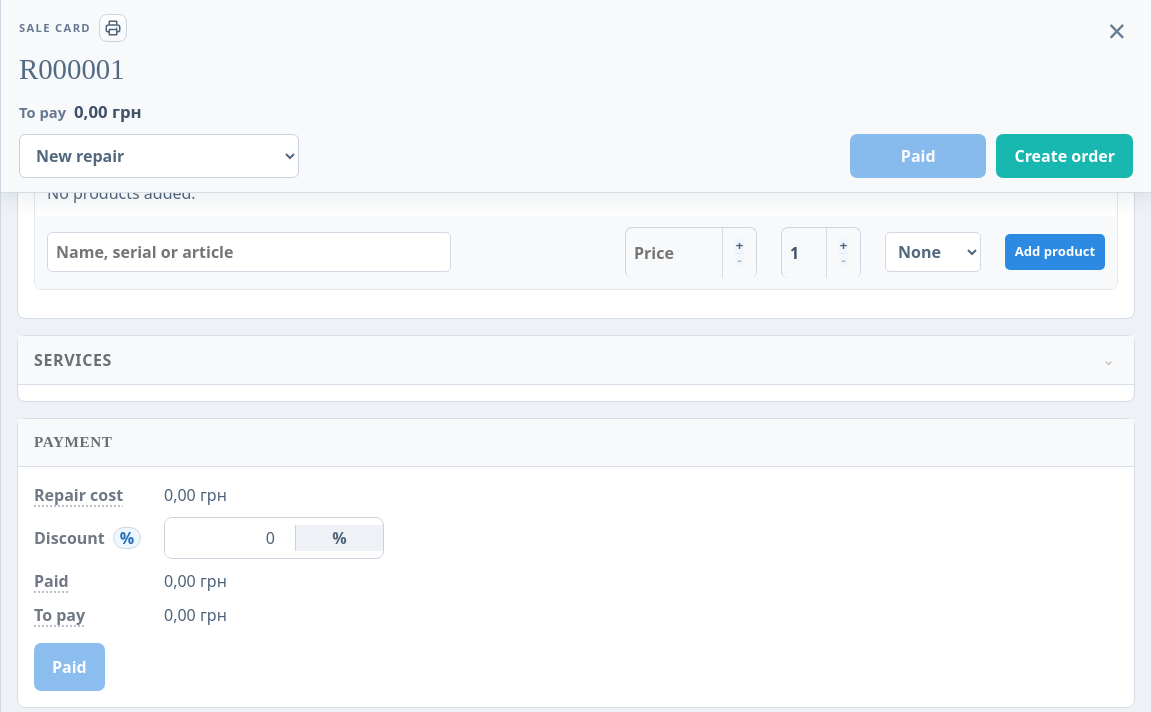
Scenario: OrderDetailCard product entry › renders retail/wholesale 1/2 toggles in the price column header when adding a service
Click the button "Services ⌄" at (73, 360), box [18,336,1134,385]
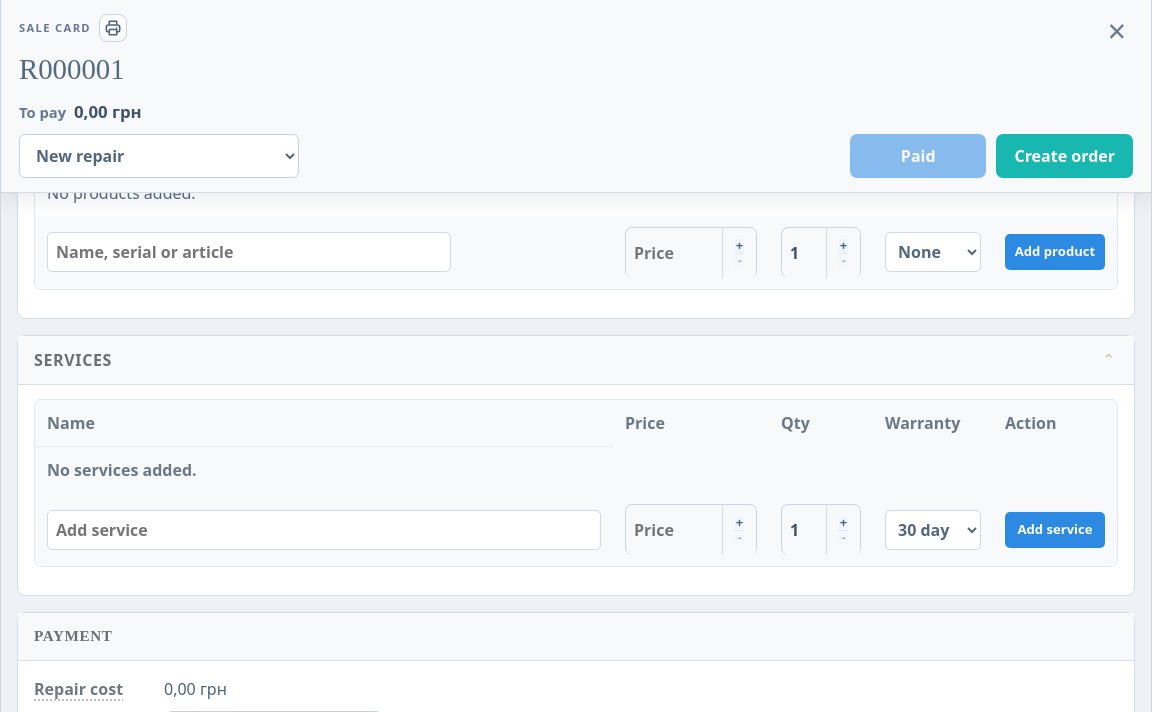
Type "Diag" into the field with placeholder "Add service" at (324, 530), box [47,510,601,550]
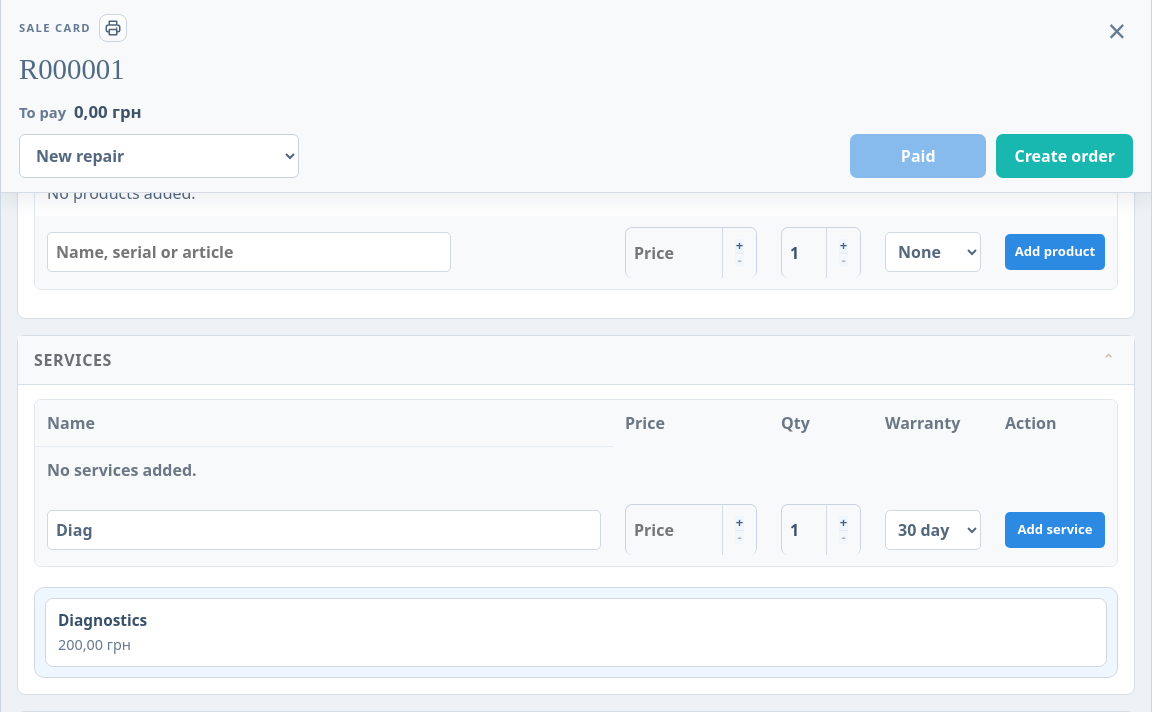
Expected: the button "Diagnostics 200,00 грн" is shown
Click the button "Diagnostics 200,00 грн" at (103, 621), box [54,603,1098,662]
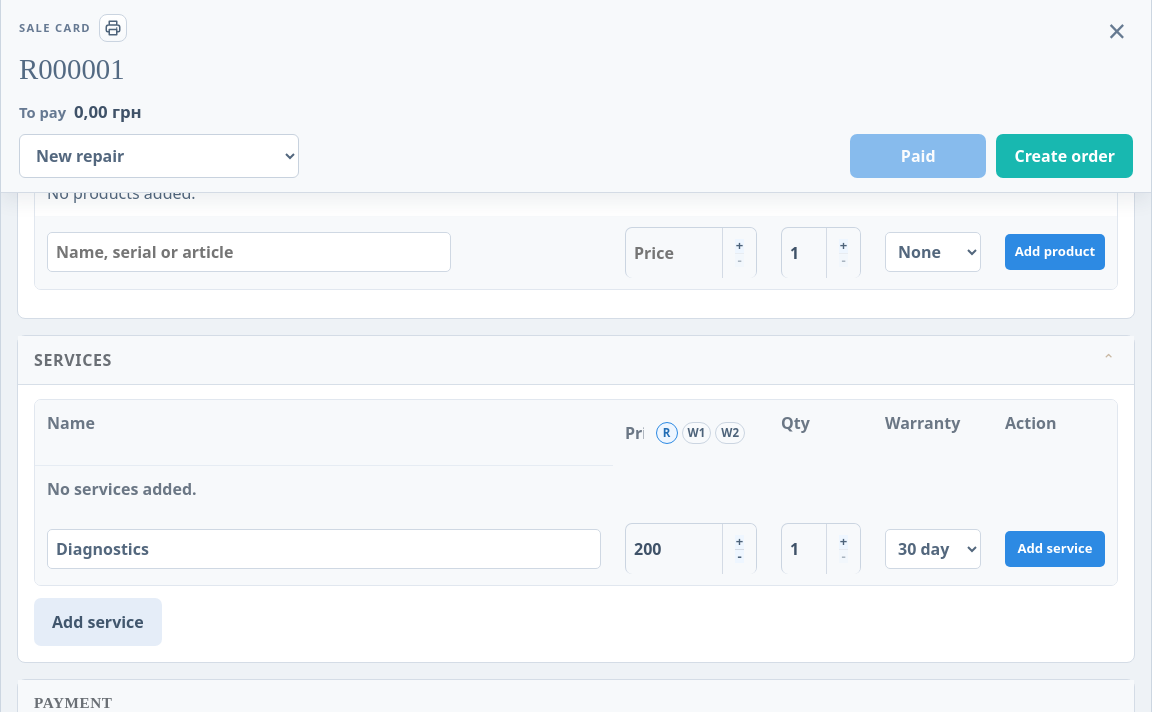
Expected: the field showing "200" is shown, [626,524,722,574]
Expected: the element showing "R W1 W2" is shown, [644,411,757,455]
Expected: the button named "Retail" is shown, [656,422,678,444]
Click the button named "Wholesale 1" at (696, 433), box [682,422,711,444]
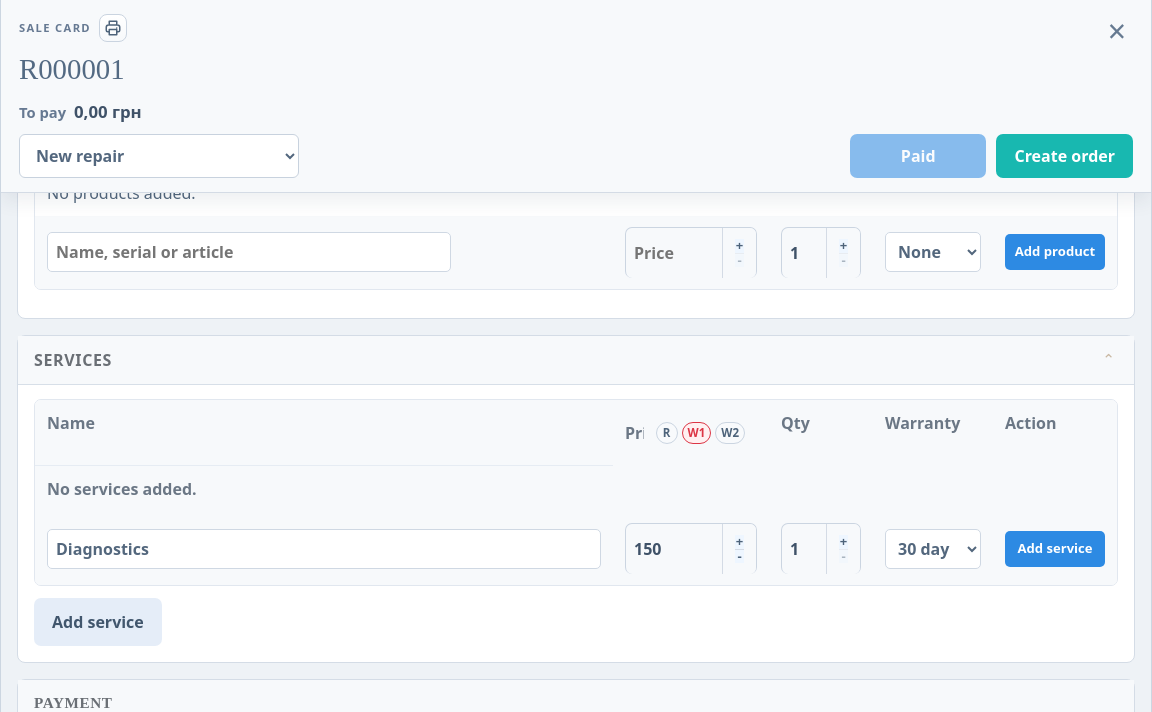
Expected: the field showing "150" is shown, [626,524,722,574]
Click the button named "Wholesale 2" at (730, 433), box [715,422,745,444]
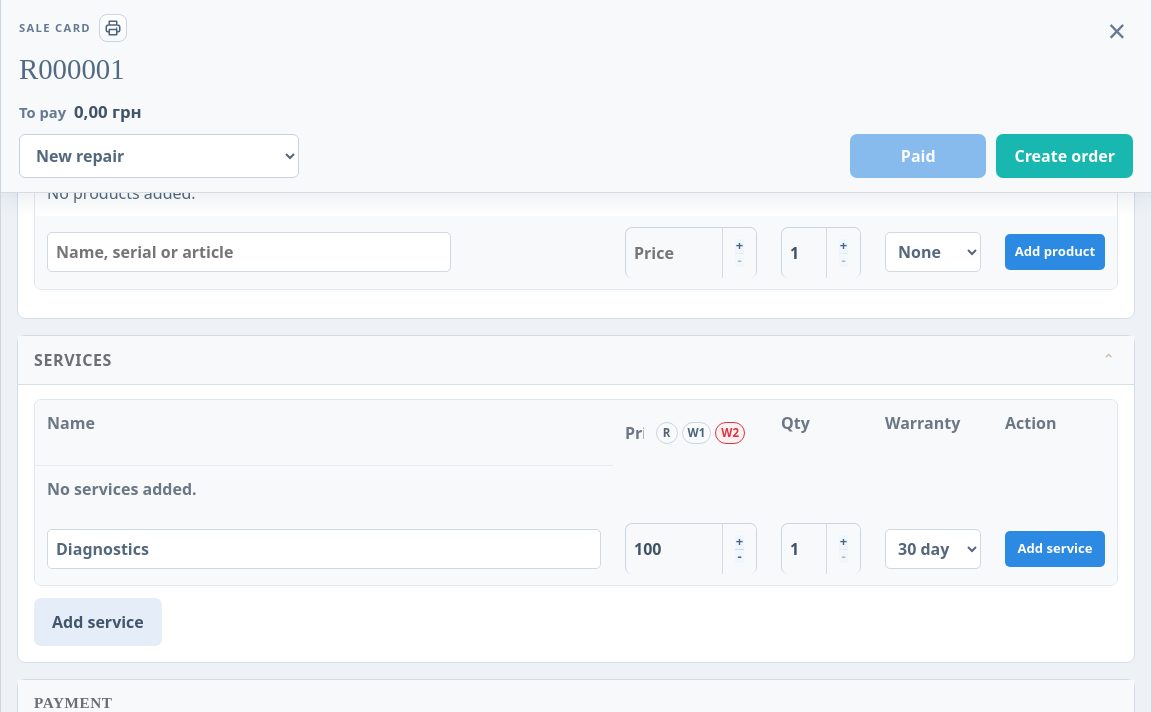
Expected: the field showing "100" is shown, [626,524,722,574]
